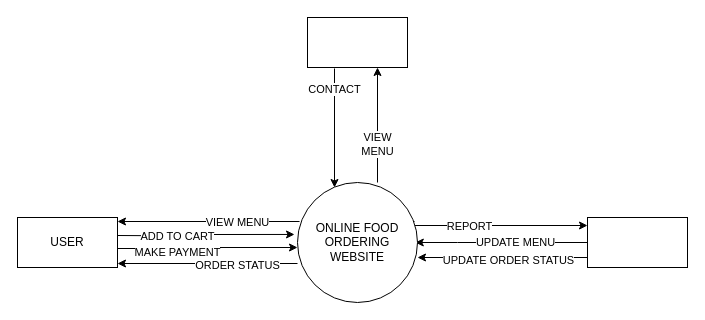
This 705x320 diagram has some shape labels left out. The centre of each missing label's shape, as x and y in pixels:
"ADMIN" goes at pixel 637 242.
"ANONYMOUS" goes at pixel 357 42.
